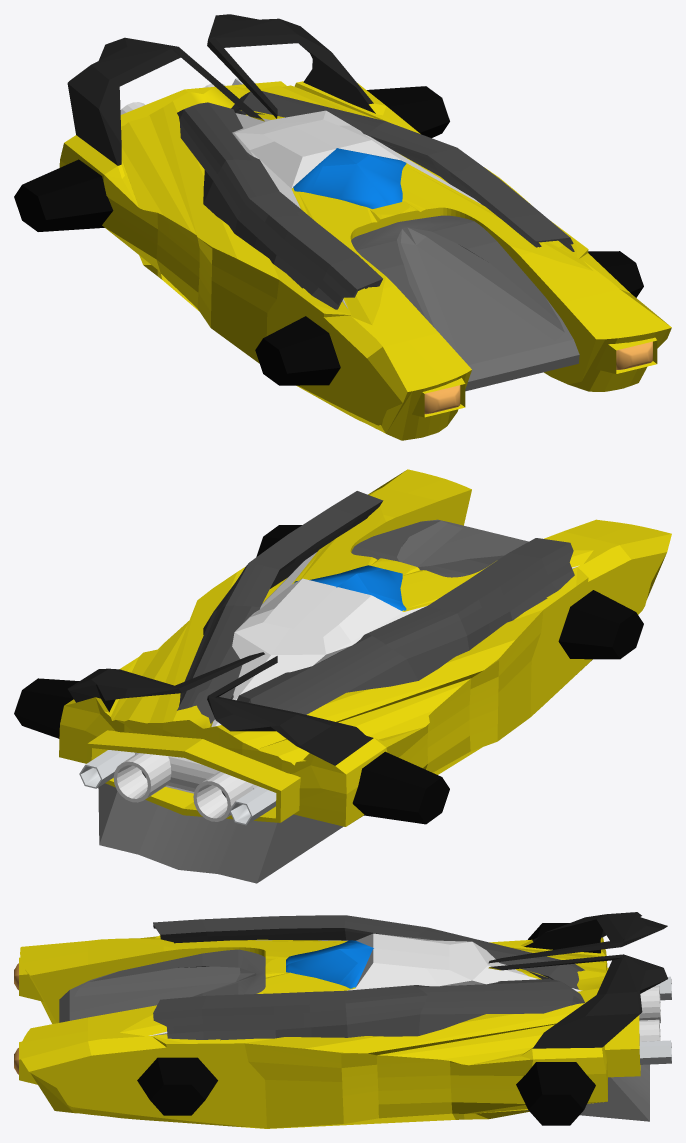
File: voxtek.fbx
3 views of the same model, one above another, from view 1: azimuth 30°, elevation 25°; view 2: azimuth 150°, elevation 25°; view 3: azimuth 270°, elevation 25° (orthographic). The views are drawn at different scales.
Visible parts, largest first — view 1: Cone.001; view 2: Cone.001; view 3: Cone.001.
Part boxes in pixels (<box>): Cone.001: <box>14,14,671,440</box>; Cone.001: <box>14,469,671,883</box>; Cone.001: <box>14,912,671,1128</box>.
Size of the model in its own units: 657 by 260 by 1065.
